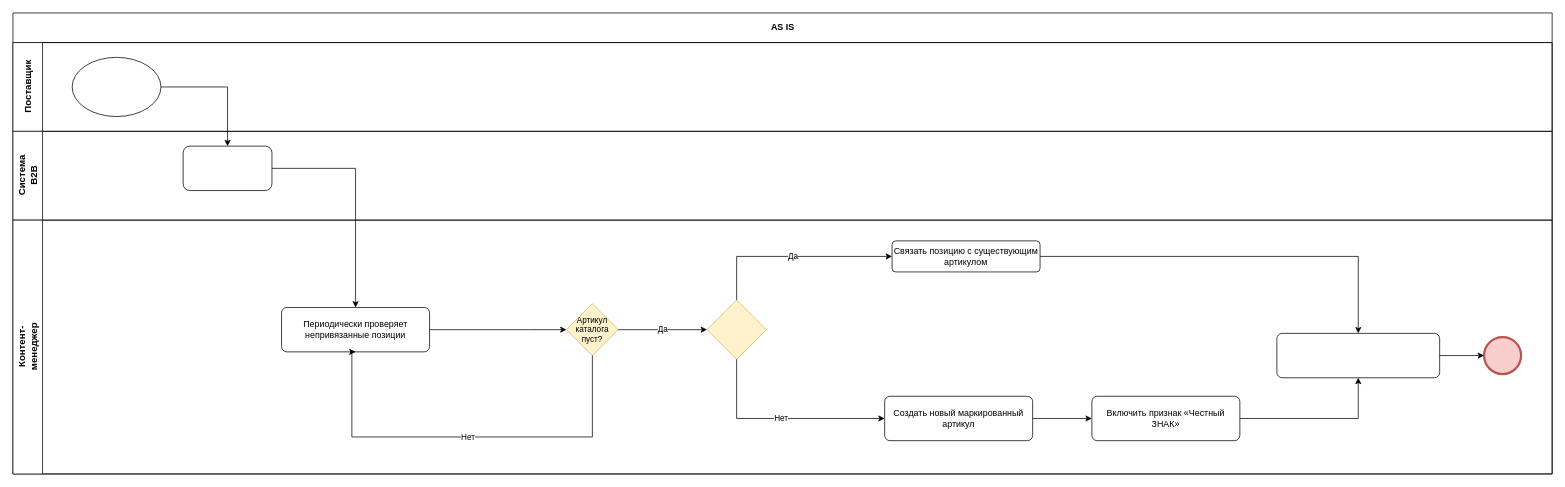
Image size: 1565x487. Some labels were removed from this diagram. Here are the shapes that lost their labels. From the top down, the centre of each, then its label:
At (116,87): "Передаёт признак маркировки (API)".
At (227,168): "Позиция всё ещё привязана к старому артикулу".
At (736,329): "Есть уже маркированный артикул на модель?".
At (1358,355): "Проверить результат: позиция у нового, отсутствует у старого".
